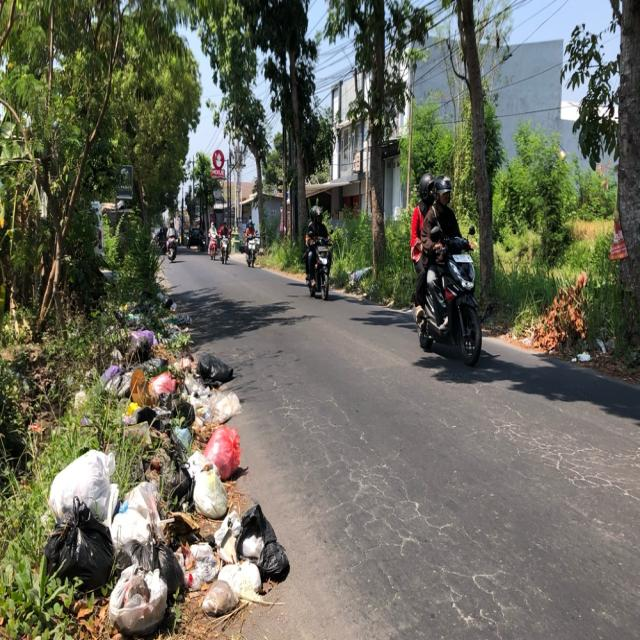trash: (34, 315, 315, 640)
